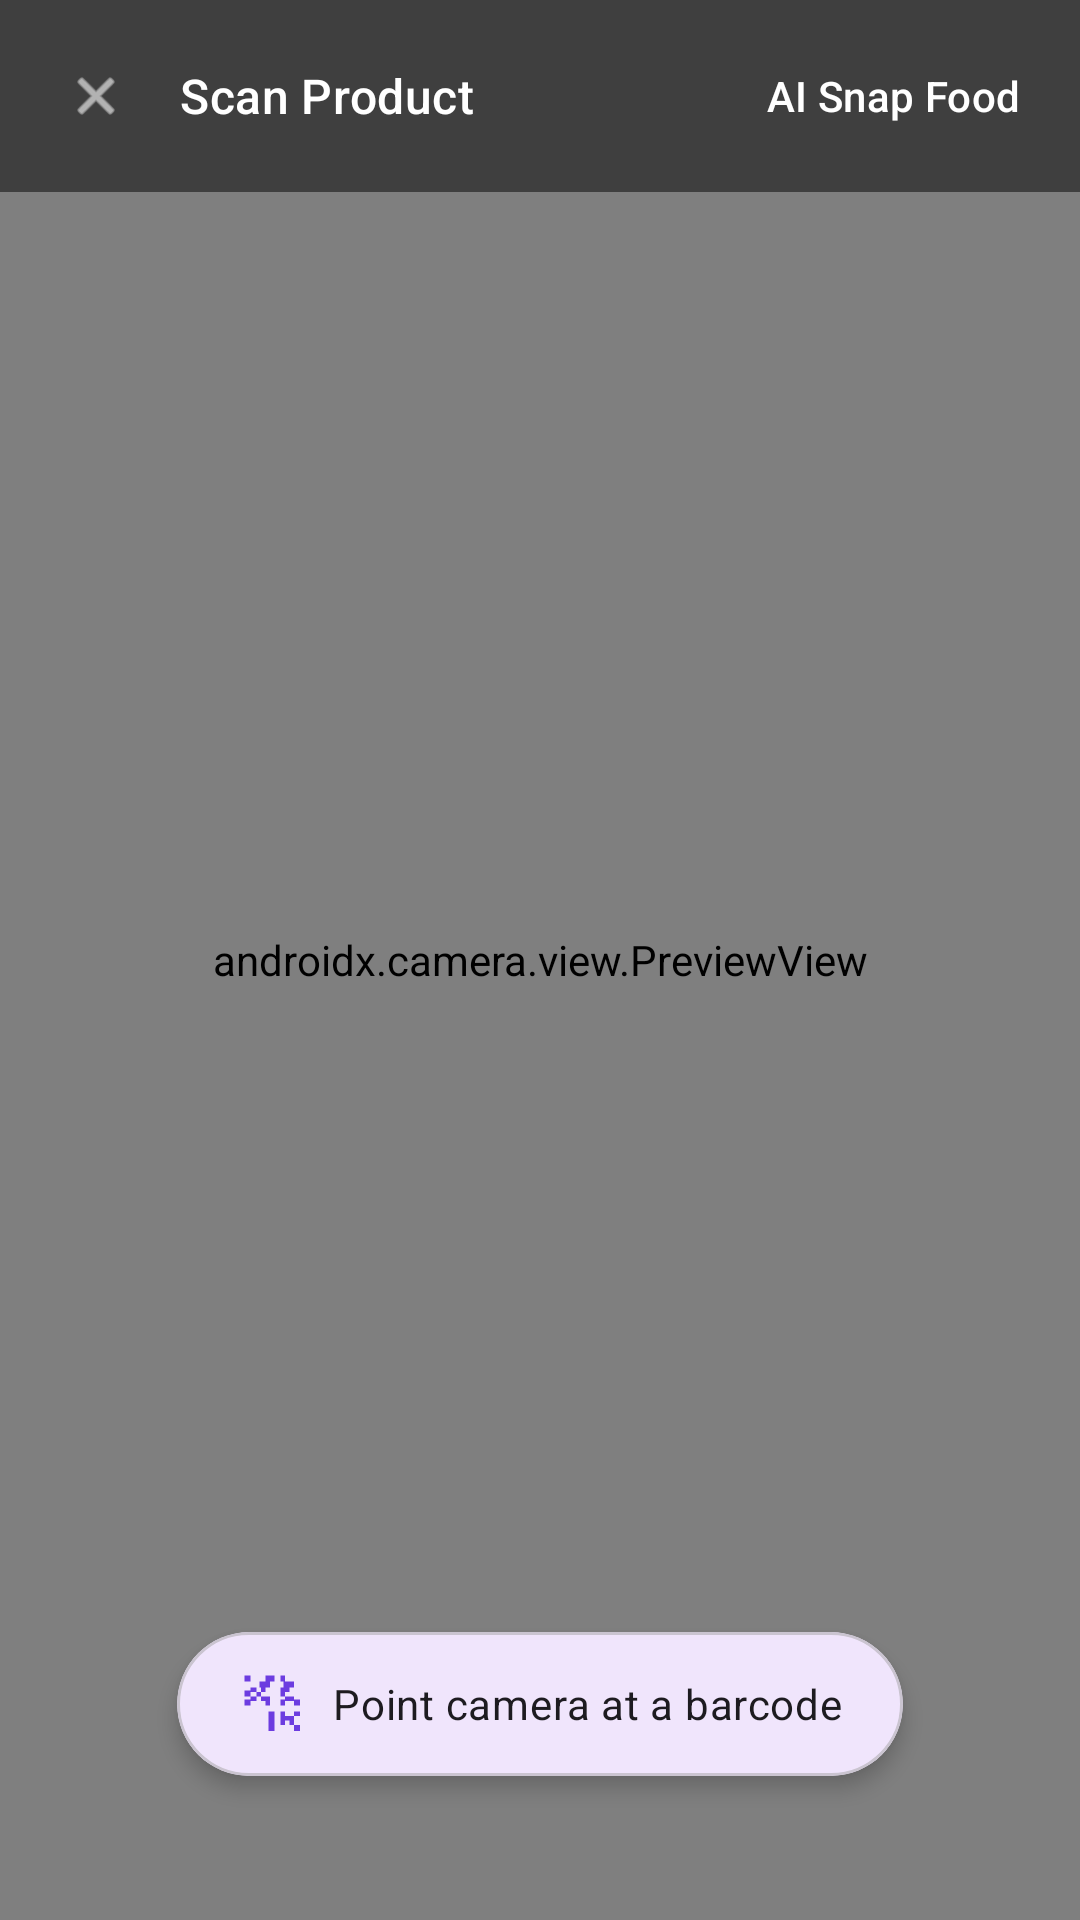

Locate icon controls on the screen. Image size 1080 × 1920, boxes as (x1, y1, x2, y2).
Close: (77, 77, 115, 115)
Scan: (244, 1675, 300, 1731)
